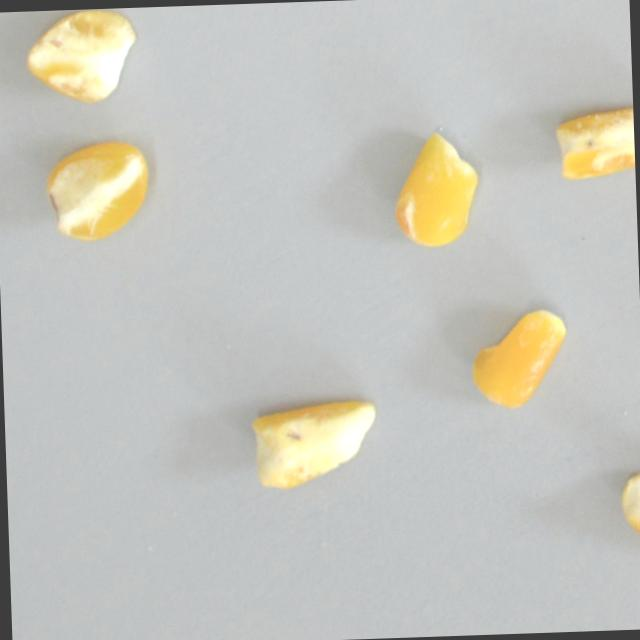dañado: (385, 124, 483, 257), (248, 395, 379, 492), (467, 300, 576, 414), (18, 6, 138, 109), (41, 137, 151, 246), (614, 467, 640, 563)
punto_negro: (550, 101, 635, 186)
